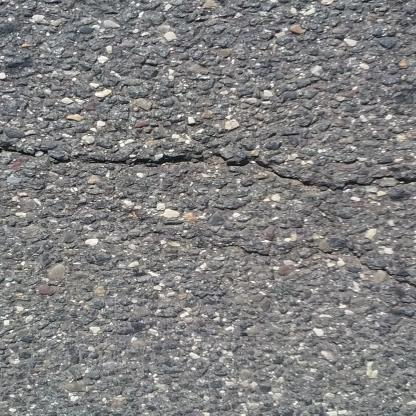Cracks: (0, 125, 416, 208)
